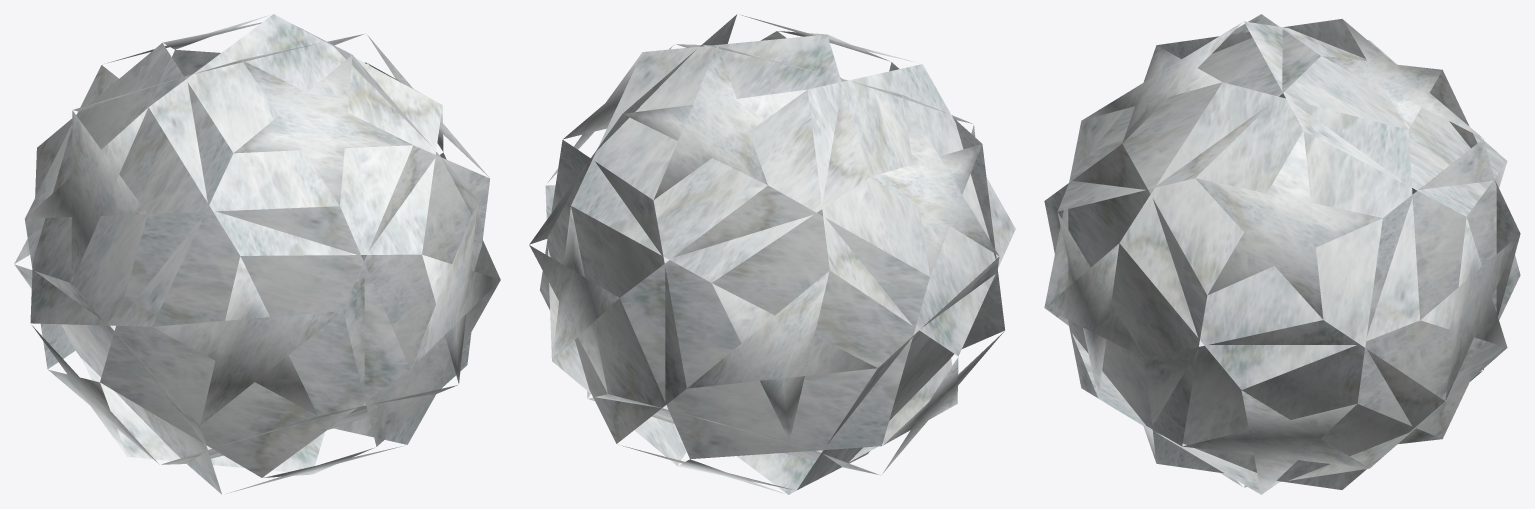
The model's file is SnubDodecadodecahedronA.gltf.
3 renders of one model, left to right at view 1: azimuth 30°, elevation 25°; view 2: azimuth 150°, elevation 25°; view 3: azimuth 270°, elevation 25°, orthographic.
Visible parts, largest first — view 1: SnubDodecadodecahedron; view 2: SnubDodecadodecahedron; view 3: SnubDodecadodecahedron.
Boxes of the visible parts, <box> form: SnubDodecadodecahedron: <box>14,14,500,494</box>; SnubDodecadodecahedron: <box>529,14,1015,494</box>; SnubDodecadodecahedron: <box>1044,14,1520,494</box>.
Size of the model in its own units: 2.48 by 2.48 by 2.48.
1 material, 1 textured.
